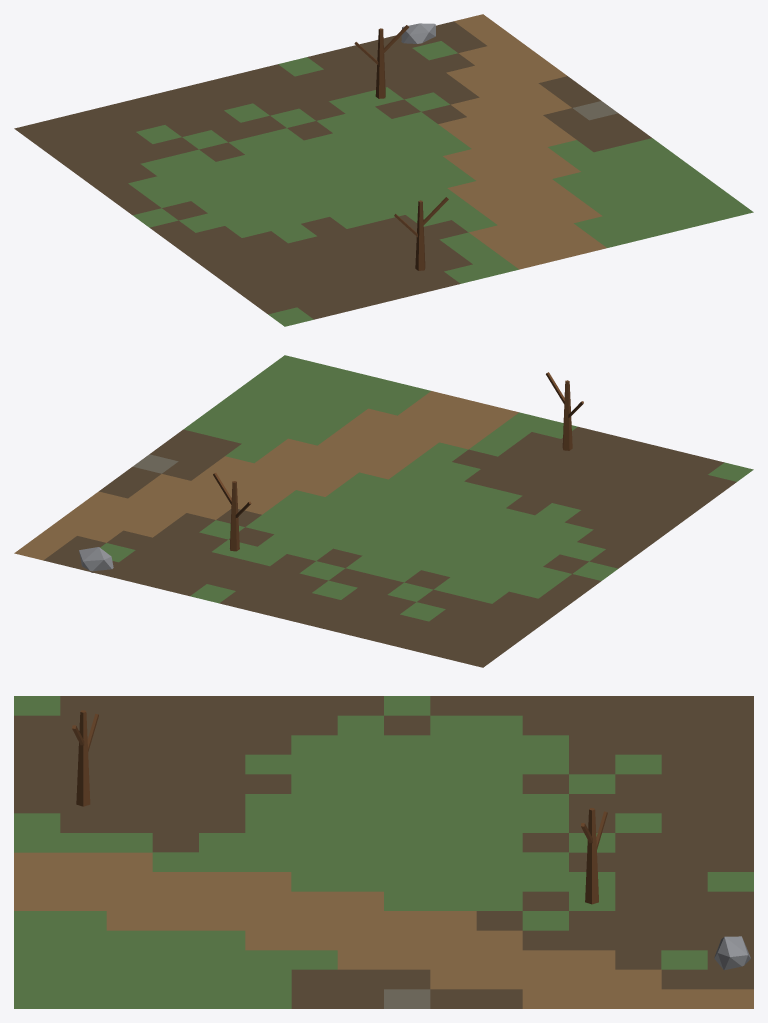
The model's file is chunk_1_18.glb.
3 views of the same model, one above another, from view 1: azimuth 30°, elevation 25°; view 2: azimuth 150°, elevation 25°; view 3: azimuth 270°, elevation 25° (orthographic). The views are drawn at different scales.
Visible parts, largest first — view 1: chunk_1_18; view 2: chunk_1_18; view 3: chunk_1_18.
Boxes of the visible parts, <box> form: chunk_1_18: <box>14,14,753,326</box>; chunk_1_18: <box>14,355,753,667</box>; chunk_1_18: <box>14,696,753,1008</box>.
Bounding box in the file's own units: 16 × 2.52 × 16.
